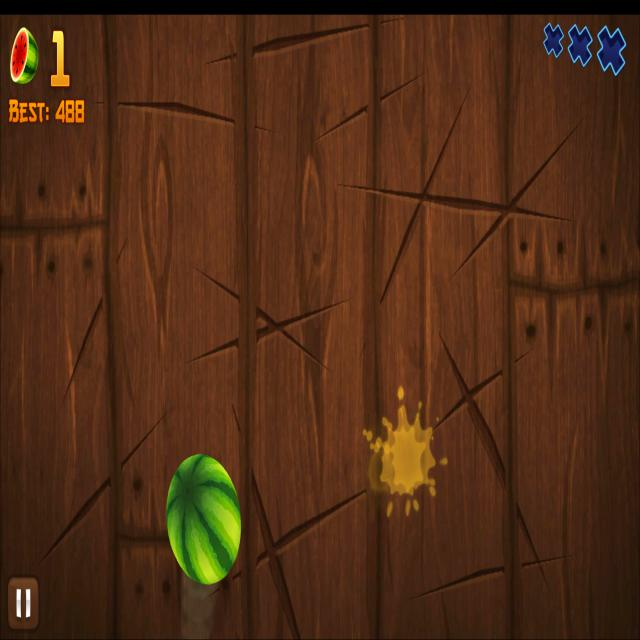fruit: (165, 451, 242, 585)
